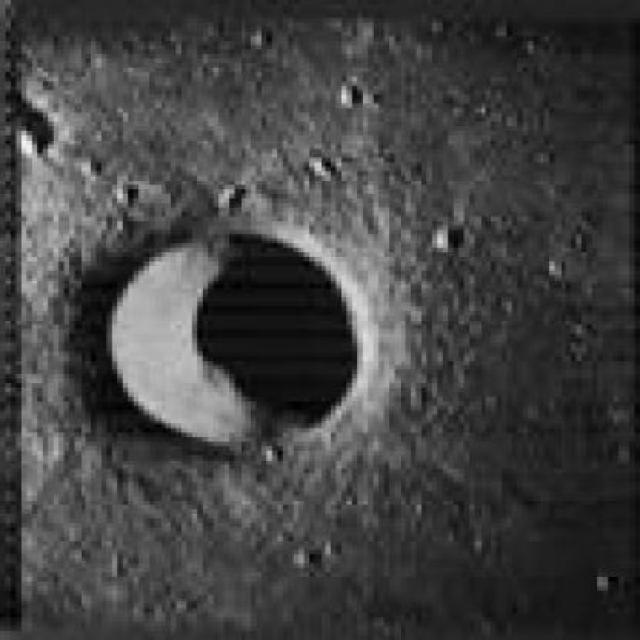crater: (106, 231, 365, 452)
